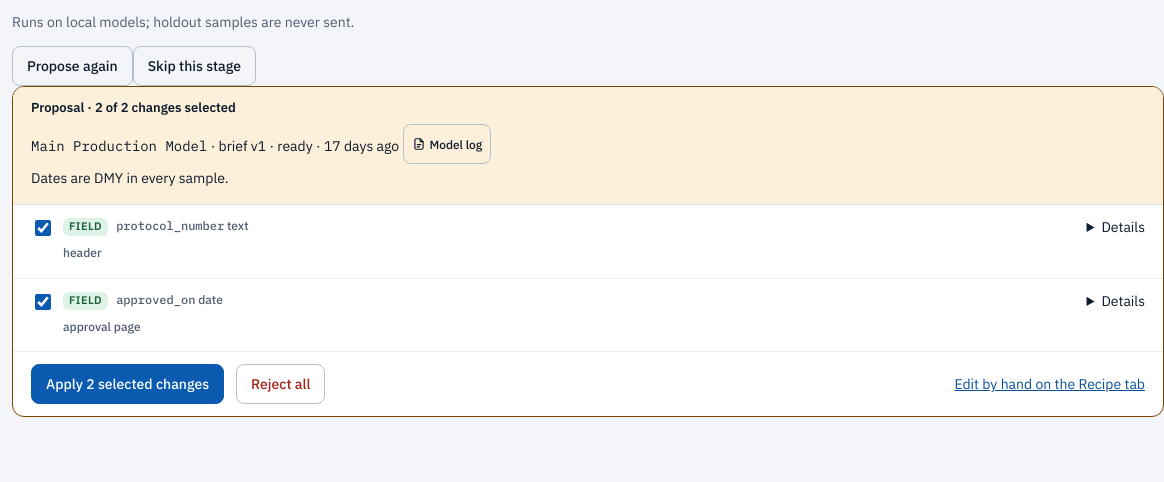
Test case: StagePanel › shows a conflict from the API
Click the button "Apply 2 selected changes" at (128,384), box x1=31 y1=364 x2=224 y2=404
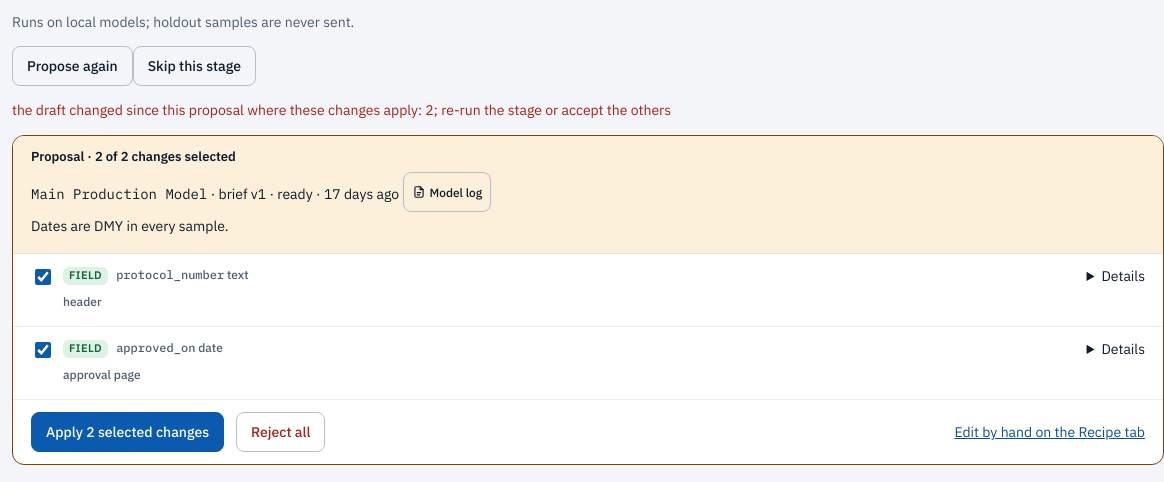
Result: the message shows "the draft changed since this proposal" at x1=12 y1=101 x2=671 y2=119
